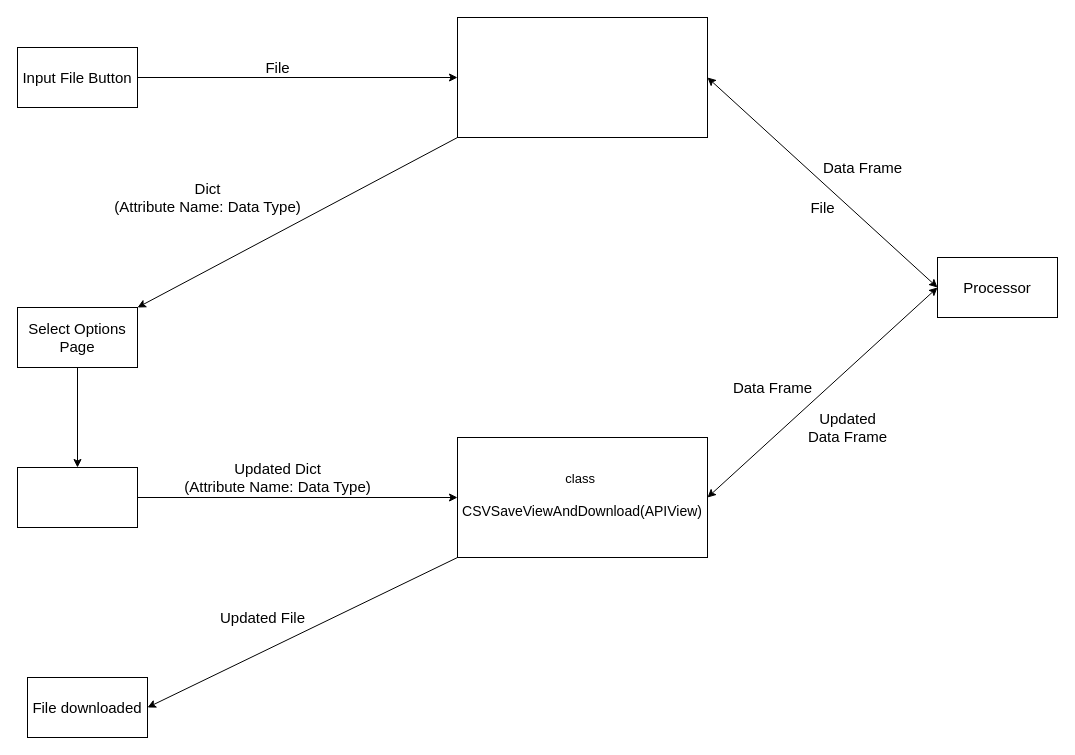
The diagram is 1075 pixels wide and 755 high, and some of its shapes have lost their labels. Each missing label, with the centre of its shape:
"class CSVTypesView(APIView)" belongs at point 582,77.
"User Modify" belongs at point 77,497.
